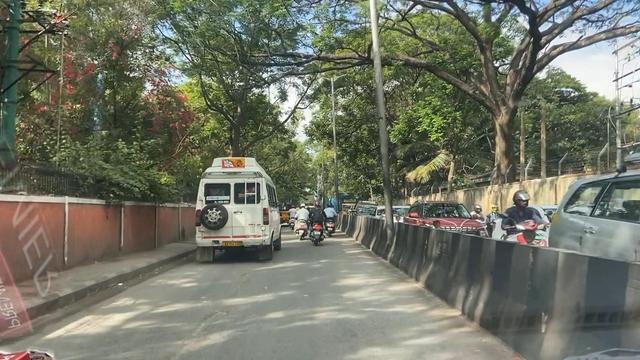HMV: (194, 157, 270, 258)
LMV: (307, 198, 325, 246)
